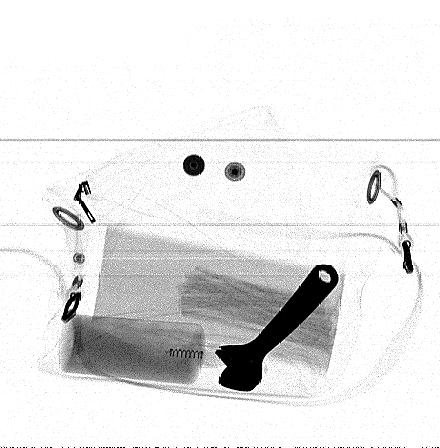Wrench: (212, 262, 343, 394)
